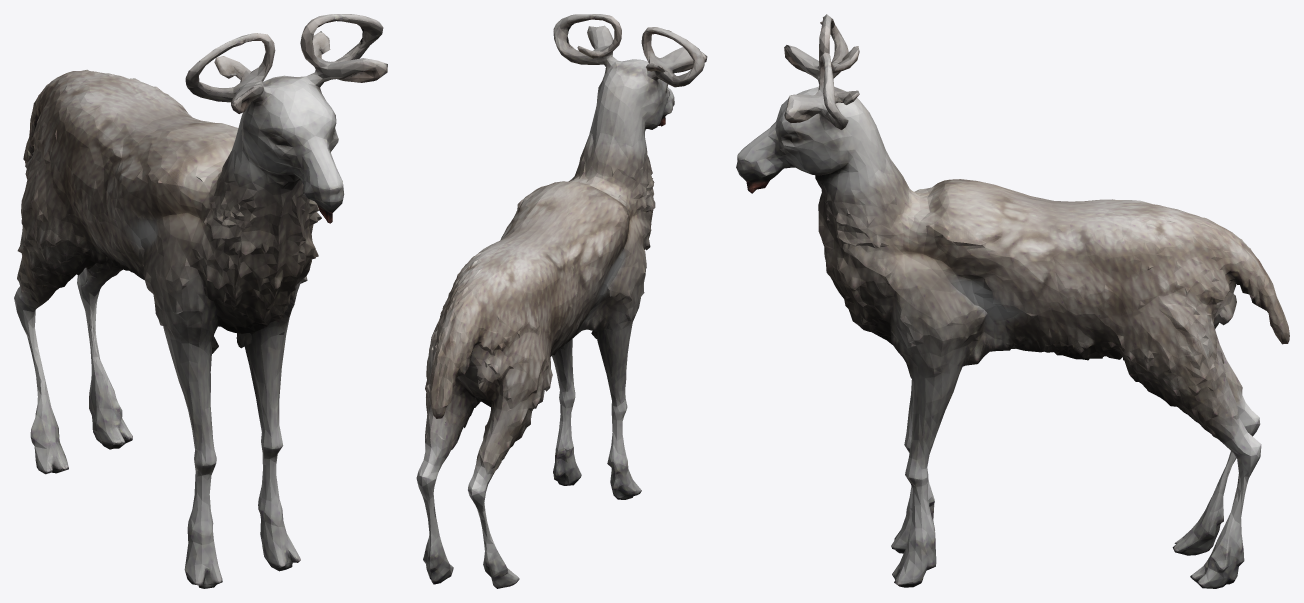
The picture shows the model from 3 angles, left to right: view 1: azimuth 30°, elevation 25°; view 2: azimuth 150°, elevation 25°; view 3: azimuth 270°, elevation 25°; orthographic projection. The views are drawn at different scales.
Parts seen in each view (by area): view 1: geometry_0; view 2: geometry_0; view 3: geometry_0.
Boxes of the visible parts, bbox=[...] form: geometry_0: bbox=[14, 14, 387, 588]; geometry_0: bbox=[416, 14, 707, 588]; geometry_0: bbox=[736, 14, 1289, 588].
Bounding box in the file's own units: 0.3532 × 1 × 0.9481.
1 material, 1 textured.
